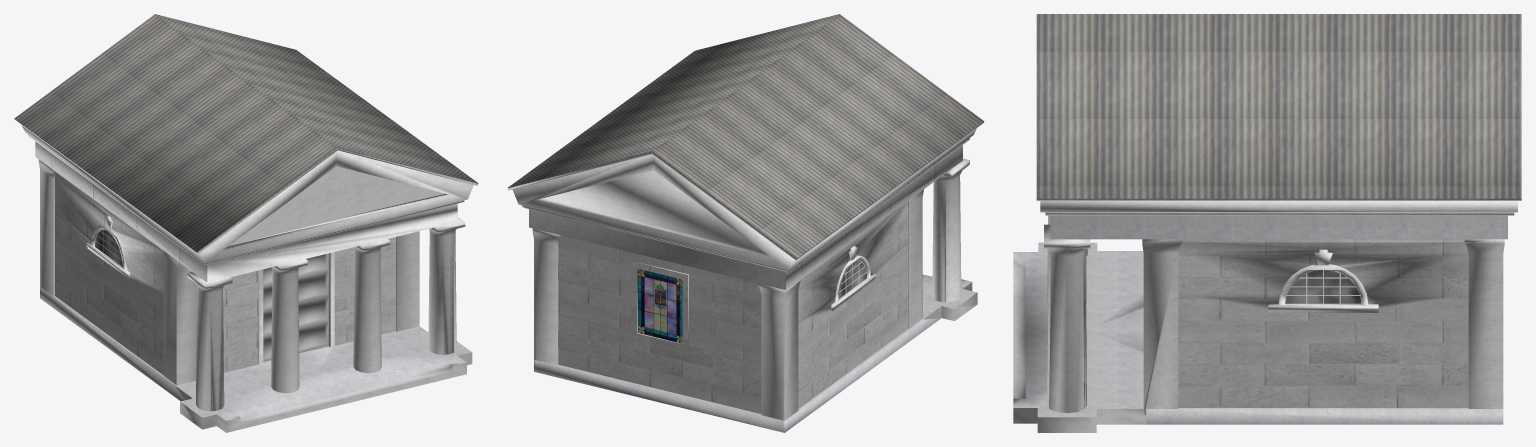
File: Mausoleum.obj
3 renders of one model, left to right at view 1: azimuth 30°, elevation 25°; view 2: azimuth 150°, elevation 25°; view 3: azimuth 270°, elevation 25°, orthographic. The views are drawn at different scales.
Parts seen in each view (by area): view 1: mesh_27, mesh_6, mesh_19, mesh_7, mesh_24, mesh_26, mesh_1, mesh_18, mesh_9, mesh_25, mesh_4; view 2: mesh_27, mesh_19, mesh_6, mesh_24, mesh_9, mesh_8, mesh_18, mesh_30, mesh_7, mesh_4; view 3: mesh_27, mesh_19, mesh_6, mesh_7, mesh_8, mesh_24, mesh_9, mesh_4, mesh_3.
Boxes of the visible parts, x1,y1,x2,y2 form: mesh_27: [14, 14, 477, 252]; mesh_6: [28, 134, 472, 432]; mesh_19: [55, 172, 395, 374]; mesh_7: [175, 252, 471, 423]; mesh_24: [15, 120, 473, 263]; mesh_26: [229, 166, 442, 245]; mesh_1: [263, 253, 328, 361]; mesh_18: [35, 141, 330, 346]; mesh_9: [40, 287, 192, 401]; mesh_25: [197, 148, 478, 253]; mesh_4: [95, 230, 122, 266]; mesh_27: [508, 14, 984, 258]; mesh_19: [558, 201, 908, 413]; mesh_6: [521, 138, 977, 420]; mesh_24: [507, 122, 983, 270]; mesh_9: [534, 306, 941, 432]; mesh_8: [529, 201, 908, 328]; mesh_18: [631, 145, 962, 351]; mesh_30: [637, 269, 682, 343]; mesh_7: [631, 260, 977, 351]; mesh_4: [838, 260, 866, 298]; mesh_27: [1036, 14, 1521, 198]; mesh_19: [1178, 239, 1468, 407]; mesh_6: [1013, 212, 1514, 432]; mesh_7: [1013, 242, 1143, 417]; mesh_8: [1050, 215, 1507, 239]; mesh_24: [1036, 199, 1521, 212]; mesh_9: [1146, 408, 1503, 424]; mesh_4: [1285, 270, 1361, 303]; mesh_3: [1285, 270, 1361, 304].
Bounding box in the file's own units: 223 × 189 × 262.
